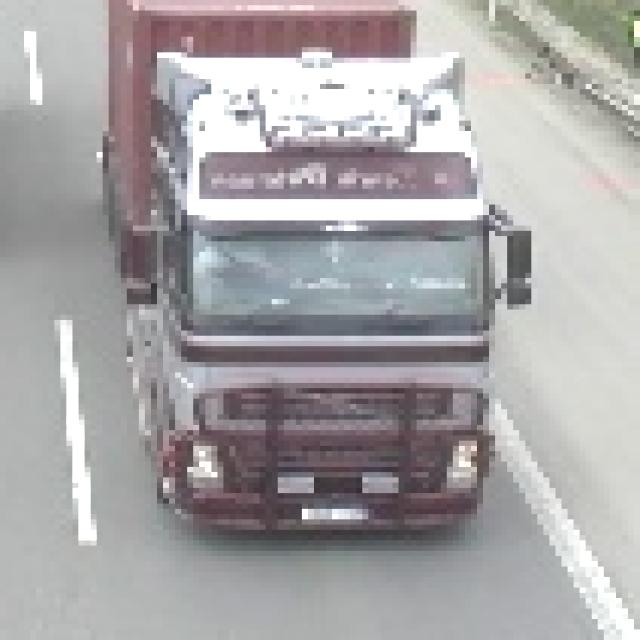TRUCK: (108, 2, 513, 546)
